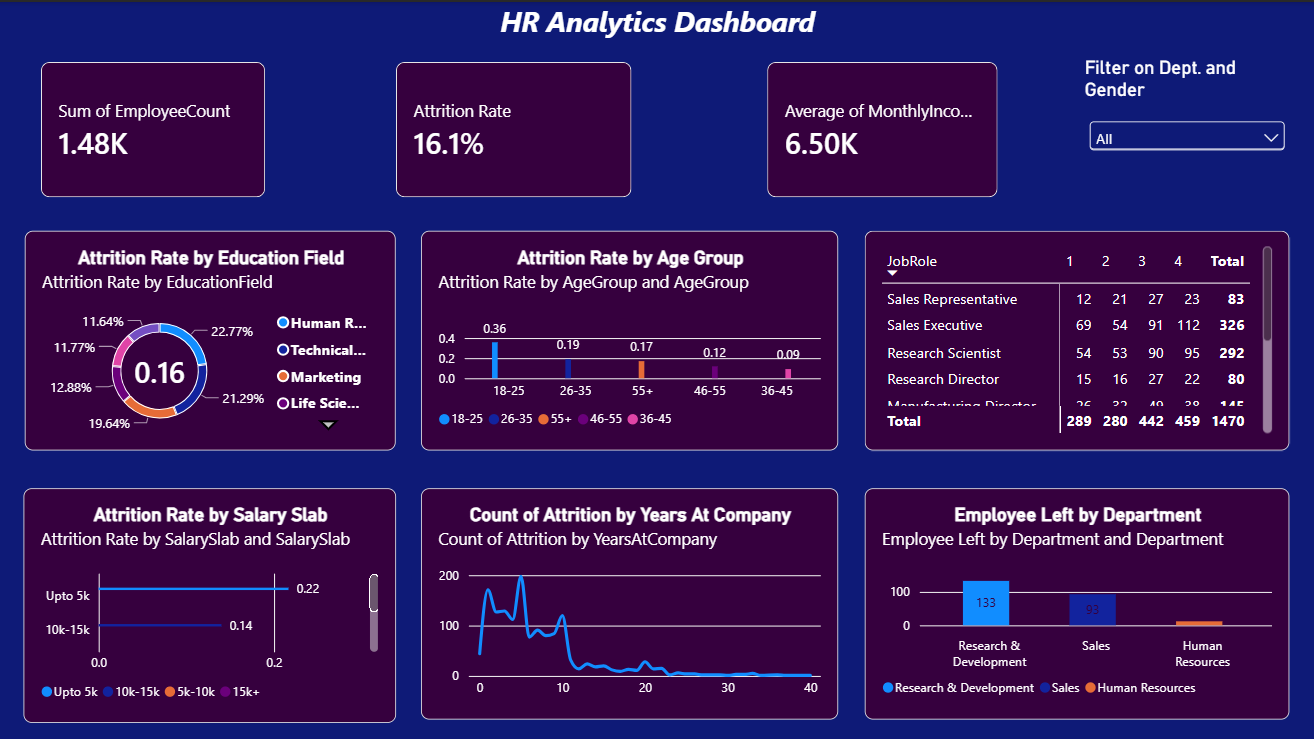

Layout of this report page (visuals, bound fields, positions):
{"tool":"powerbi","page":{"name":"Page 1","canvas":[1280,720],"ordinal":0},"visuals":[{"type":"cardVisual","title":"Total Employees","fields":{"Data":["Sum(HR_Analytics.EmployeeCount)"]},"box":[43.6,58.1,217.9,131.9],"z":0},{"type":"cardVisual","title":"Attrition Rate","fields":{"Data":["HR_Analytics.Attrition Rate"]},"box":[387.4,58.1,228.8,131.9],"z":1000},{"type":"cardVisual","title":"Average Monthly Income","fields":{"Data":["Avg(HR_Analytics.MonthlyIncome)"]},"box":[746.9,58.1,223.9,131.9],"z":2000},{"type":"donutChart","title":"Attrition Rate by Education Field","fields":{"Category":["HR_Analytics.EducationField"],"Y":["HR_Analytics.Attrition Rate"]},"box":[27.8,221.5,359.5,213],"z":3000},{"type":"clusteredColumnChart","title":"Attrition Rate by Age Group","fields":{"Category":["HR_Analytics.AgeGroup"],"Series":["HR_Analytics.AgeGroup"],"Y":["HR_Analytics.Attrition Rate"]},"box":[411.6,221.5,404.3,213],"z":4000},{"type":"clusteredBarChart","title":"Attrition Rate by Salary Slab ","fields":{"Category":["HR_Analytics.SalarySlab"],"Series":["HR_Analytics.SalarySlab"],"Y":["HR_Analytics.Attrition Rate"]},"box":[26.6,470.9,360.7,227.6],"z":5000},{"type":"pivotTable","fields":{"Columns":["HR_Analytics.JobSatisfaction"],"Rows":["HR_Analytics.JobRole"],"Values":["Count(HR_Analytics.EmployeeNumber)"]},"box":[841.3,221.5,411.6,213],"z":6000},{"type":"lineChart","title":"Count of Attrition by Years At Company","fields":{"Category":["HR_Analytics.YearsAtCompany"],"Y":["CountNonNull(HR_Analytics.Attrition)"]},"box":[411.6,470.9,404.3,223.9],"z":7000},{"type":"columnChart","title":"Employee Left by Department","fields":{"Category":["HR_Analytics.Department"],"Series":["HR_Analytics.Department"],"Y":["HR_Analytics.Employee Left"]},"box":[841.3,470.9,411.6,223.9],"z":8000},{"type":"slicer","title":"Filter on Dept. and Gender","fields":{"Values":["HR_Analytics.Department","HR_Analytics.Gender"]},"box":[1054.3,53.3,198.5,101.7],"z":9000},{"type":"textbox","box":[27.4,0,1225.4,53.5],"z":10000}]}

Visuals, with their boxes in screenshot pixels (x1, y1, x2, y2), scaled from the page's 1280x720 canvas onto the 1314x739 screenshot:
"Total Employees" cardVisual: pyautogui.locateOnScreen(45, 60, 268, 195)
"Attrition Rate" cardVisual: pyautogui.locateOnScreen(398, 60, 633, 195)
"Average Monthly Income" cardVisual: pyautogui.locateOnScreen(767, 60, 997, 195)
"Attrition Rate by Education Field" donutChart: pyautogui.locateOnScreen(29, 227, 398, 446)
"Attrition Rate by Age Group" clusteredColumnChart: pyautogui.locateOnScreen(423, 227, 838, 446)
"Attrition Rate by Salary Slab " clusteredBarChart: pyautogui.locateOnScreen(27, 483, 398, 717)
pivotTable - HR_Analytics.JobSatisfaction x HR_Analytics.JobRole: pyautogui.locateOnScreen(864, 227, 1286, 446)
"Count of Attrition by Years At Company" lineChart: pyautogui.locateOnScreen(423, 483, 838, 713)
"Employee Left by Department" columnChart: pyautogui.locateOnScreen(864, 483, 1286, 713)
"Filter on Dept. and Gender" slicer: pyautogui.locateOnScreen(1082, 55, 1286, 159)
textbox: pyautogui.locateOnScreen(28, 0, 1286, 55)
